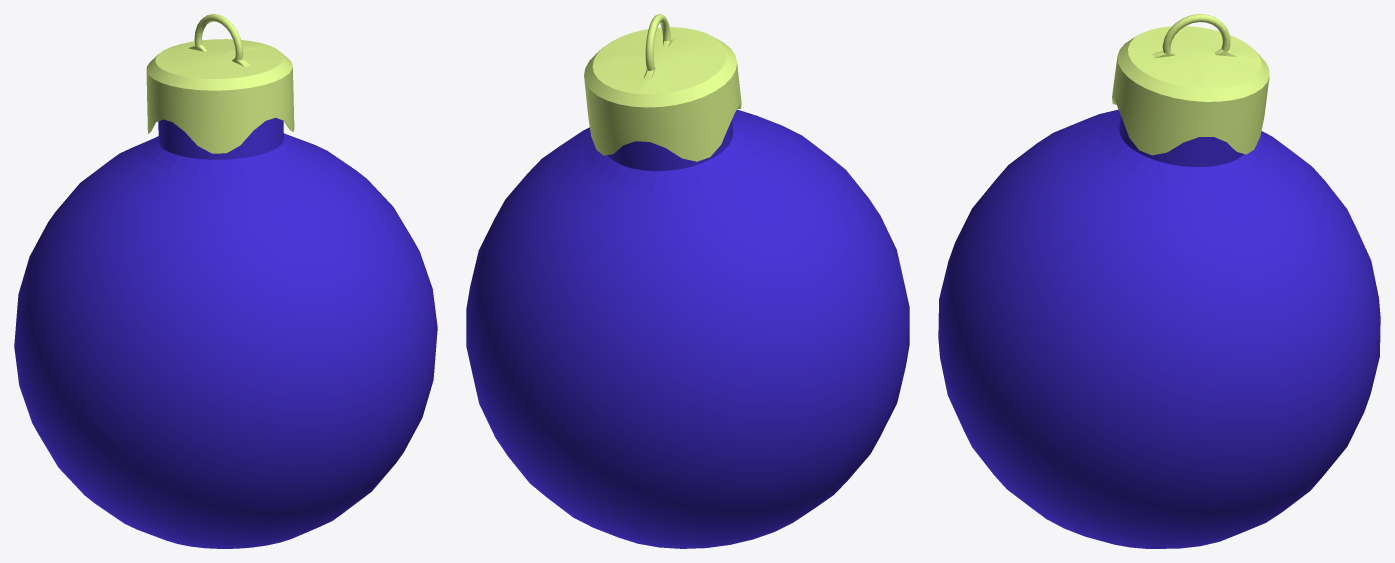
Rendered from christmasball2.glb.
3 views of the same model, side by side, from view 1: azimuth 30°, elevation 25°; view 2: azimuth 150°, elevation 25°; view 3: azimuth 270°, elevation 25° (orthographic). The views are drawn at different scales.
Parts seen in each view (by area): view 1: ball007, ring007; view 2: ball007, ring007; view 3: ball007, ring007.
Boxes of the visible parts, x1,y1,x2,y2 form: ball007: (14, 117, 437, 548); ring007: (146, 14, 294, 153); ball007: (466, 109, 909, 548); ring007: (584, 14, 741, 161); ball007: (938, 109, 1380, 548); ring007: (1112, 14, 1269, 155).
Bounding box in the file's own units: 0.0114 × 0.0148 × 0.0114.
